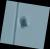Squash-Ball: (0, 1, 50, 49)
